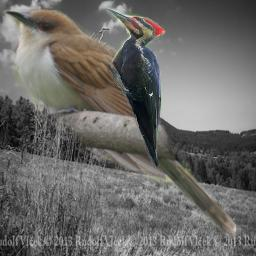Cuckoo: (3, 9, 240, 239)
Woodpecker: (104, 7, 166, 168)
